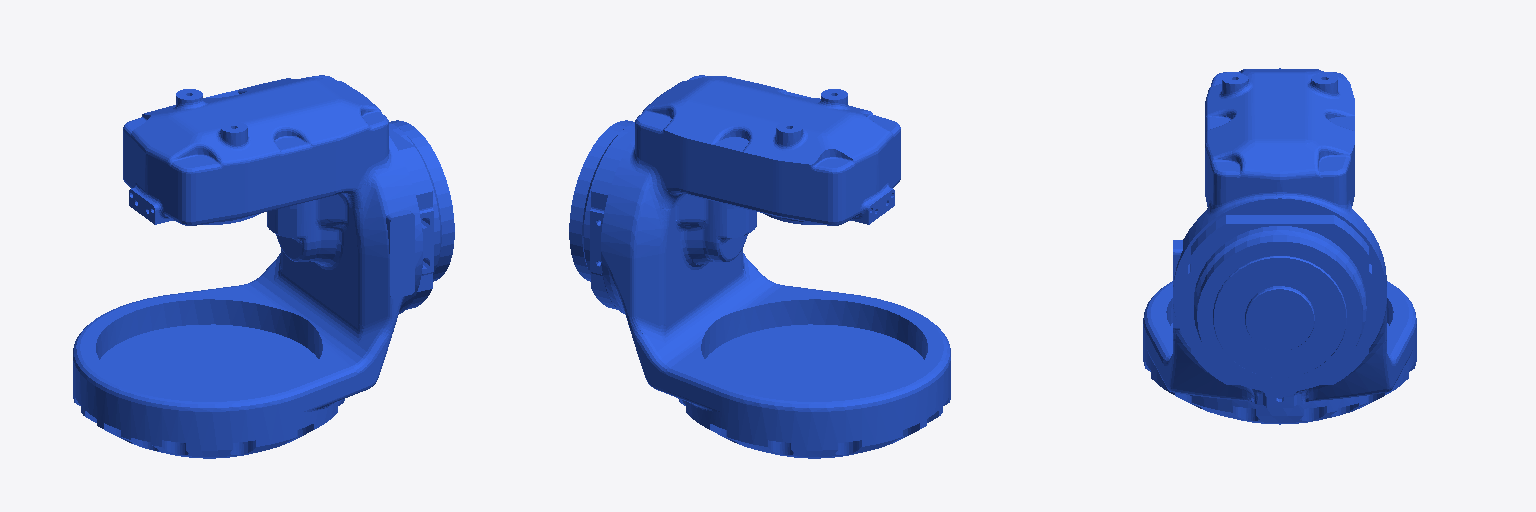
Rendered from wrist.obj.
3 views of the same model, side by side, from view 1: azimuth 30°, elevation 25°; view 2: azimuth 150°, elevation 25°; view 3: azimuth 270°, elevation 25° (orthographic).
Bounding box in the file's own units: 255 × 230 × 183.